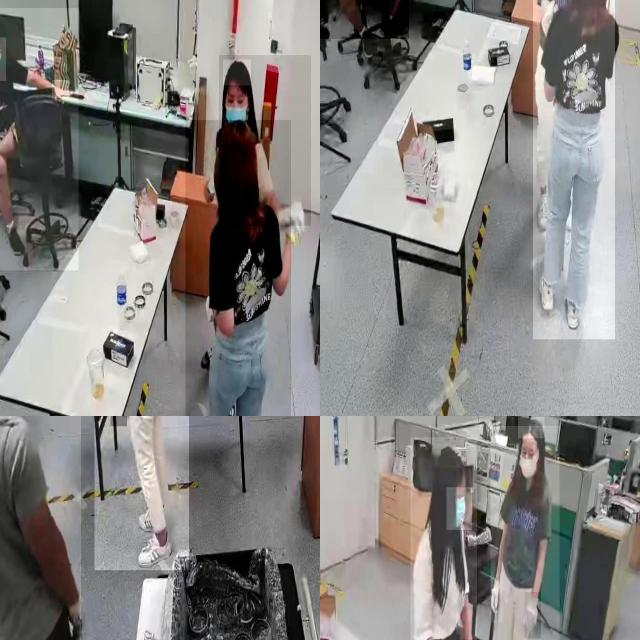face_mask: (221, 87, 251, 131), (446, 487, 472, 530), (516, 444, 540, 487), (0, 37, 6, 81)
hand_glove: (524, 592, 542, 639), (491, 573, 503, 623), (110, 416, 127, 427)
hand_noglove: (52, 80, 70, 99), (0, 155, 7, 175)
head_nohelmet: (218, 118, 255, 146), (223, 60, 251, 86), (434, 444, 464, 468), (518, 417, 545, 439)
person: (185, 120, 291, 416), (532, 0, 615, 340), (0, 8, 79, 271), (0, 416, 81, 640), (219, 55, 311, 227), (490, 425, 559, 640), (94, 416, 189, 571), (410, 437, 477, 640)
shoes: (135, 529, 175, 574), (354, 17, 378, 63), (133, 500, 163, 536), (535, 266, 555, 314), (563, 278, 580, 331), (534, 186, 554, 231), (2, 219, 26, 255)
